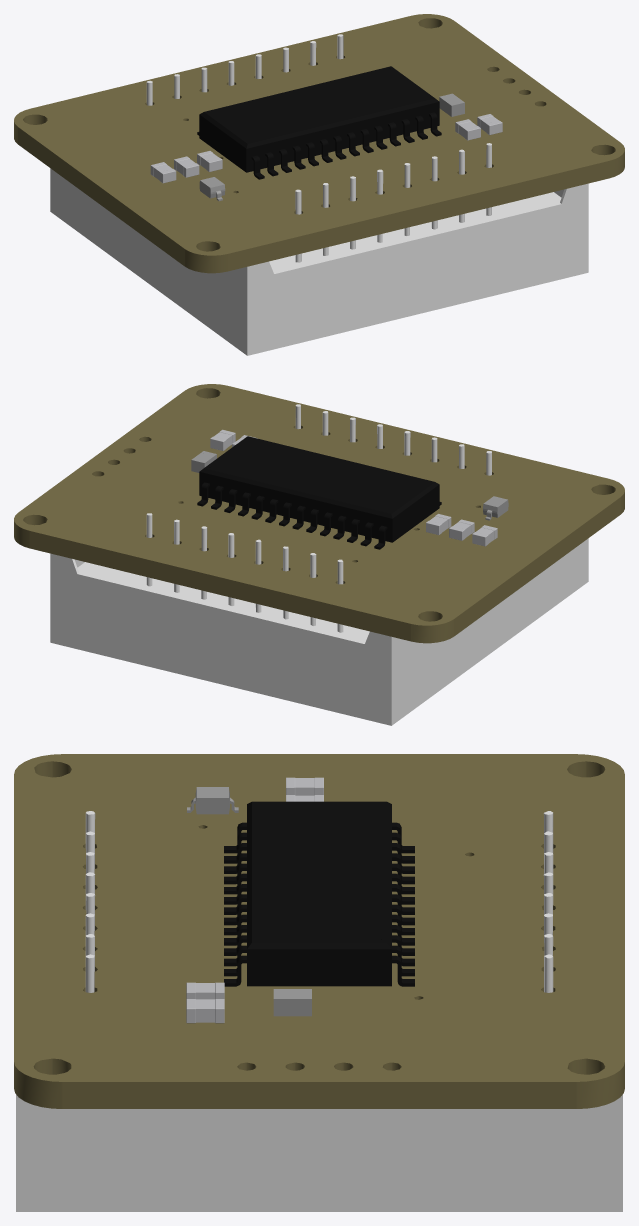
The model's file is ada-1048.glb.
3 views of the same model, one above another, from view 1: azimuth 30°, elevation 25°; view 2: azimuth 150°, elevation 25°; view 3: azimuth 270°, elevation 25° (orthographic). The views are drawn at different scales.
Parts seen in each view (by area): view 1: 0.16666666666666666_0.16666666666666666_0.08333333333333333_, 0.8333333333333334_0.8333333333333334_0.8333333333333334_0.8, 0_0_0_0, 0.5833333333333334_0.5833333333333334_0.5833333333333334_0.8, 0.3333333333333333_0.3333333333333333_0.3333333333333333_0; view 2: 0.16666666666666666_0.16666666666666666_0.08333333333333333_, 0.8333333333333334_0.8333333333333334_0.8333333333333334_0.8, 0_0_0_0, 0.5833333333333334_0.5833333333333334_0.5833333333333334_0.8, 0.3333333333333333_0.3333333333333333_0.3333333333333333_0; view 3: 0.16666666666666666_0.16666666666666666_0.08333333333333333_, 0.8333333333333334_0.8333333333333334_0.8333333333333334_0.8, 0_0_0_0, 0.5833333333333334_0.5833333333333334_0.5833333333333334_0.8, 0.3333333333333333_0.3333333333333333_0.3333333333333333_0.
Part boxes in pixels (x1,y1,x2,y2): 0.16666666666666666_0.16666666666666666_0.08333333333333333_: [14, 14, 624, 273]; 0.8333333333333334_0.8333333333333334_0.8333333333333334_0.8: [50, 34, 588, 355]; 0_0_0_0: [197, 66, 441, 179]; 0.5833333333333334_0.5833333333333334_0.5833333333333334_0.8: [150, 114, 502, 183]; 0.3333333333333333_0.3333333333333333_0.3333333333333333_0: [199, 93, 464, 201]; 0.16666666666666666_0.16666666666666666_0.08333333333333333_: [14, 384, 624, 643]; 0.8333333333333334_0.8333333333333334_0.8333333333333334_0.8: [50, 404, 588, 725]; 0_0_0_0: [197, 436, 441, 549]; 0.5833333333333334_0.5833333333333334_0.5833333333333334_0.8: [210, 429, 497, 546]; 0.3333333333333333_0.3333333333333333_0.3333333333333333_0: [191, 451, 508, 520]; 0.16666666666666666_0.16666666666666666_0.08333333333333333_: [14, 754, 624, 1108]; 0.8333333333333334_0.8333333333333334_0.8333333333333334_0.8: [16, 811, 622, 1211]; 0_0_0_0: [224, 801, 414, 986]; 0.5833333333333334_0.5833333333333334_0.5833333333333334_0.8: [186, 777, 323, 1023]; 0.3333333333333333_0.3333333333333333_0.3333333333333333_0: [187, 787, 311, 1016].
Bounding box in the file's own units: 4.06 × 1.22 × 3.2.
